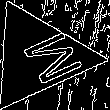M_SW: (2, 25, 76, 88)
